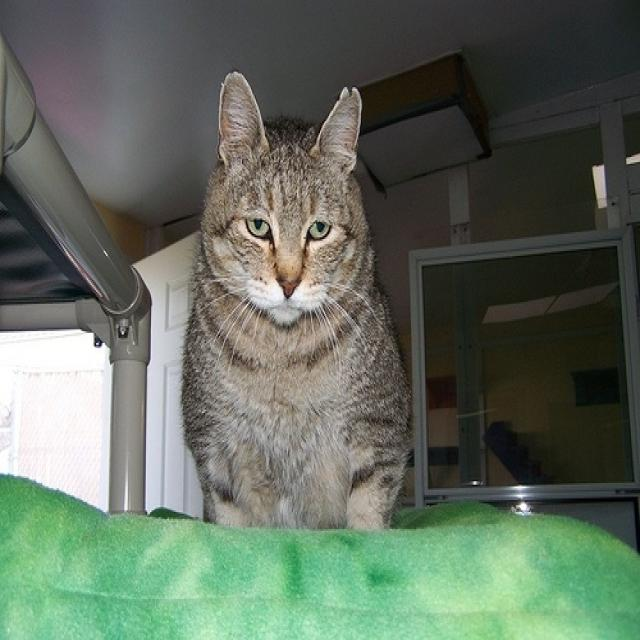cat: (180, 68, 413, 529)
